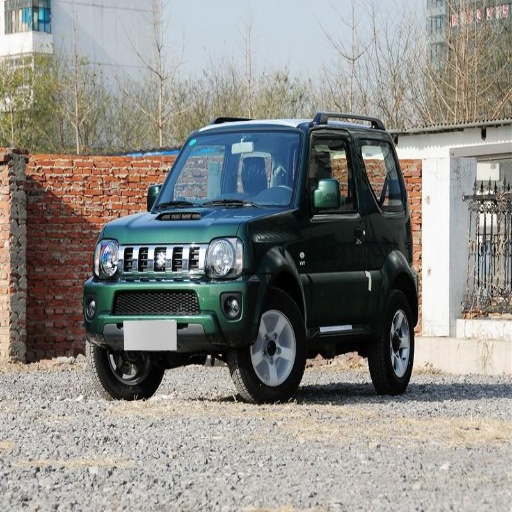front_bumper: (83, 240, 261, 350)
front_glass: (155, 128, 303, 207)
front_left_door: (305, 130, 366, 324)
trunk: (352, 216, 402, 303)
